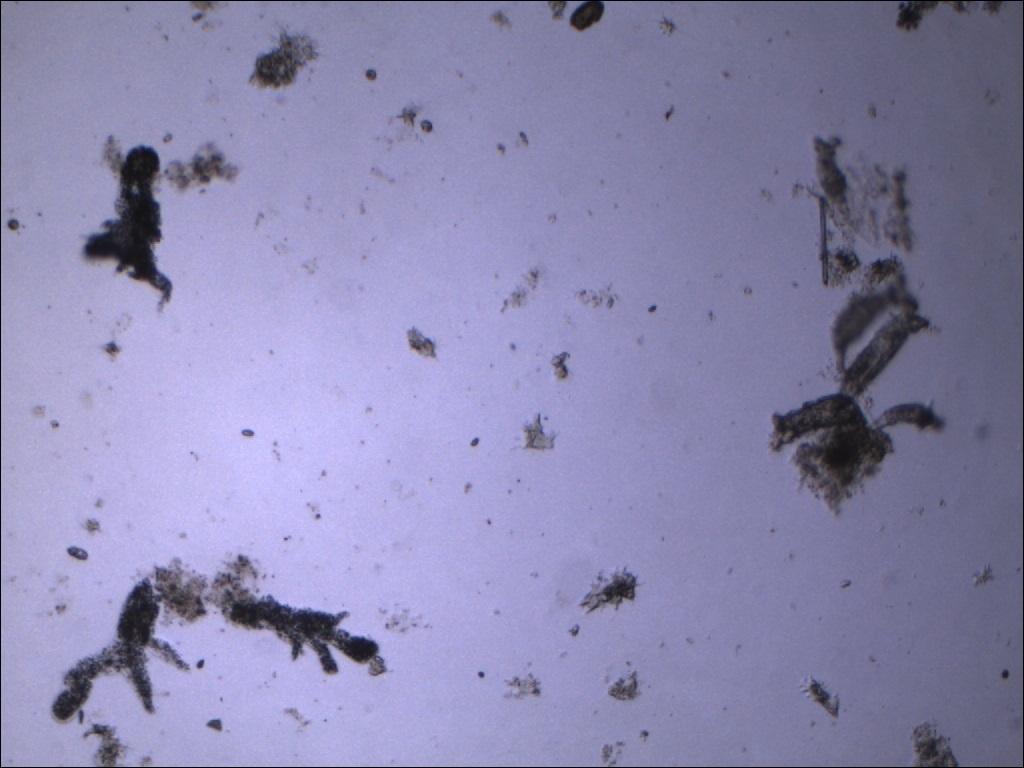amoeba: (49, 575, 198, 728), (224, 592, 385, 682)
